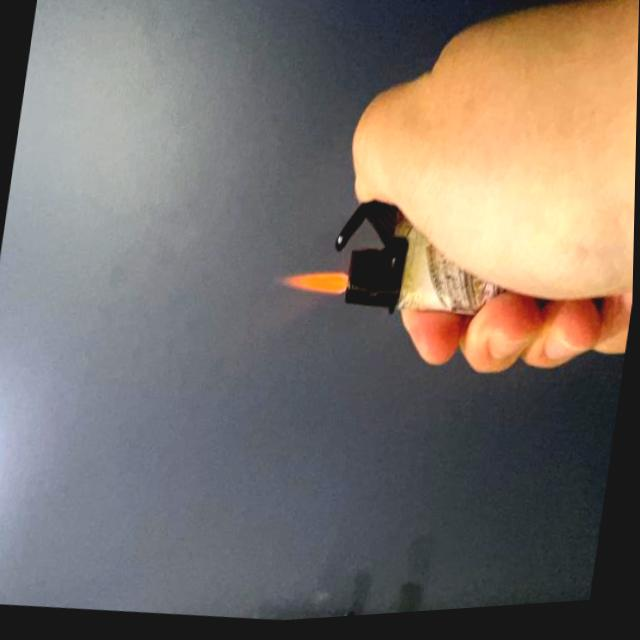Fire: (276, 267, 348, 304)
